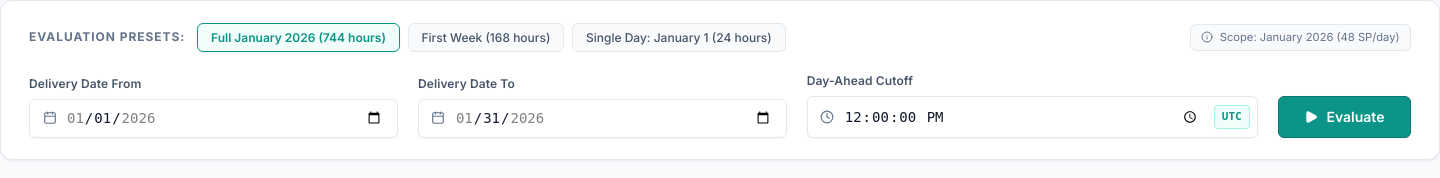
Test: Controls Component › updates inputs when preset button is clicked
The image size is (1440, 178).
Click the button with aria-label "Single Day: Jan 1" at (679, 38), box [572,23,786,52]
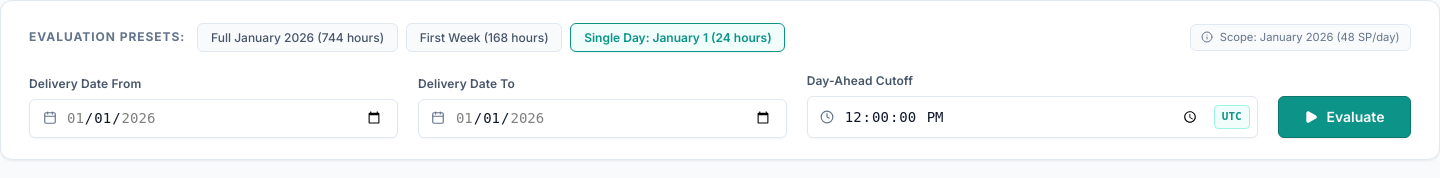
Check: the date field labelled "Delivery Date From" holds "2026-01-01", box [29,99,398,138]
Check: the date field labelled "Delivery Date To" holds "2026-01-01", box [418,99,787,138]
